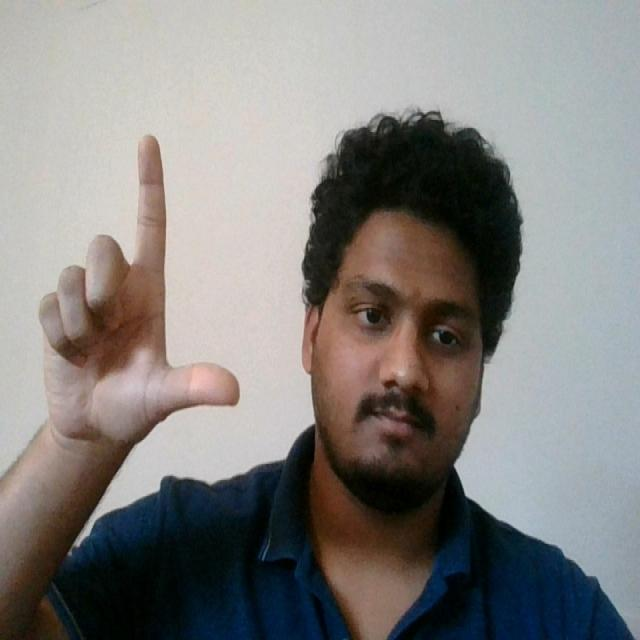IloveYou: (33, 122, 245, 456)
